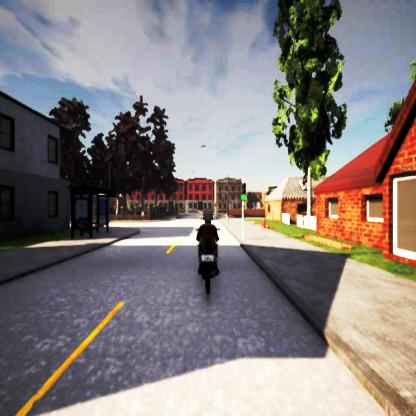motobike: (196, 208, 220, 296)
